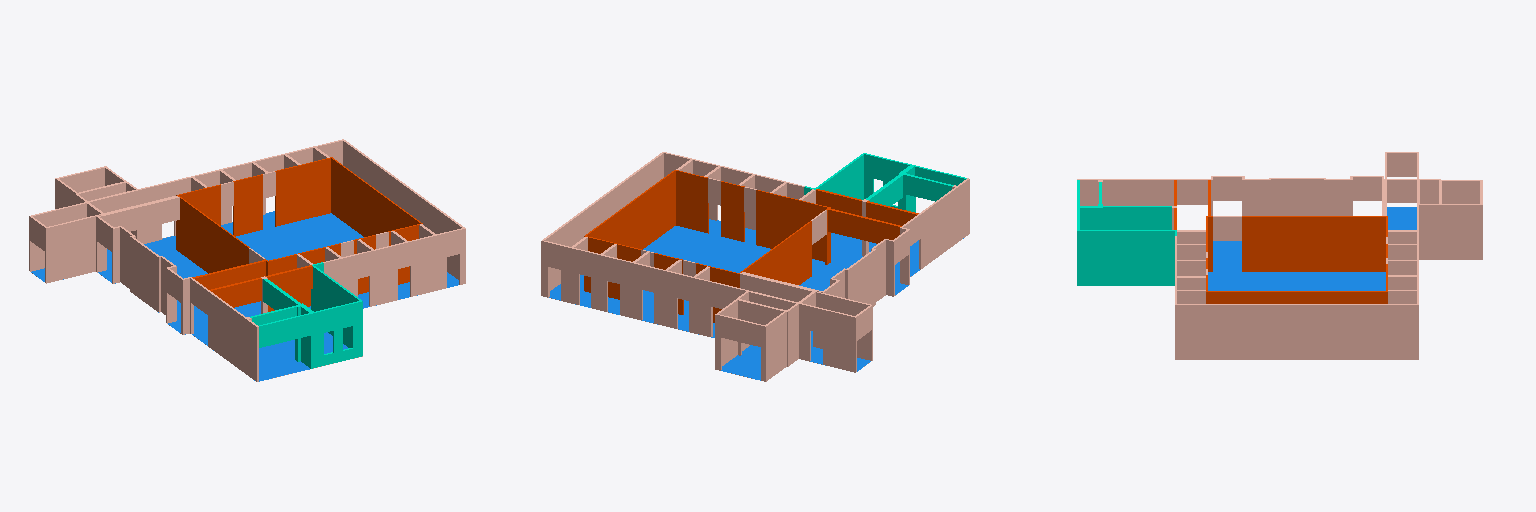
Rendered from floorplan.obj.
The picture shows the model from 3 angles: view 1: azimuth 30°, elevation 25°; view 2: azimuth 150°, elevation 25°; view 3: azimuth 270°, elevation 25°; orthographic projection.
Visible parts, largest first — view 1: floorplan; view 2: floorplan; view 3: floorplan.
Part boxes in pixels (x1,y1,x2,y2): floorplan: (29,139,465,381); floorplan: (541,152,969,381); floorplan: (1077,152,1482,359).
Bounding box in the file's own units: 3.59 × 0.6018 × 4.